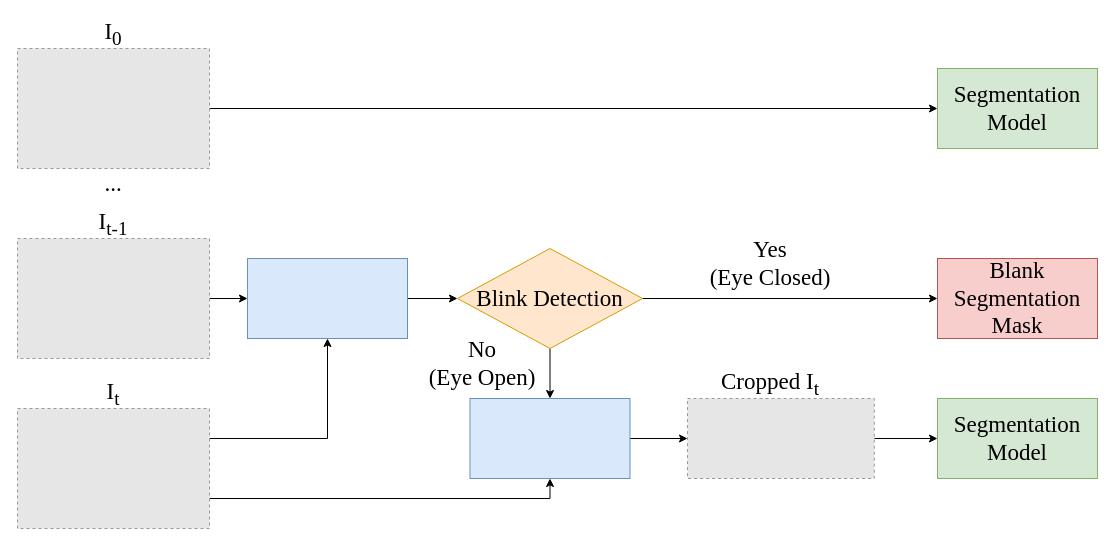
The diagram is 1115 pixels wide and 546 high, and some of its shapes have lost their labels. Grey dashed boxes stand in for pictures. The centre of each missing label's shape, as x and y in pixels:
"D t = I t - I t-1" goes at pixel 327 298.
"ROI Prediction Network" goes at pixel 549 438.
